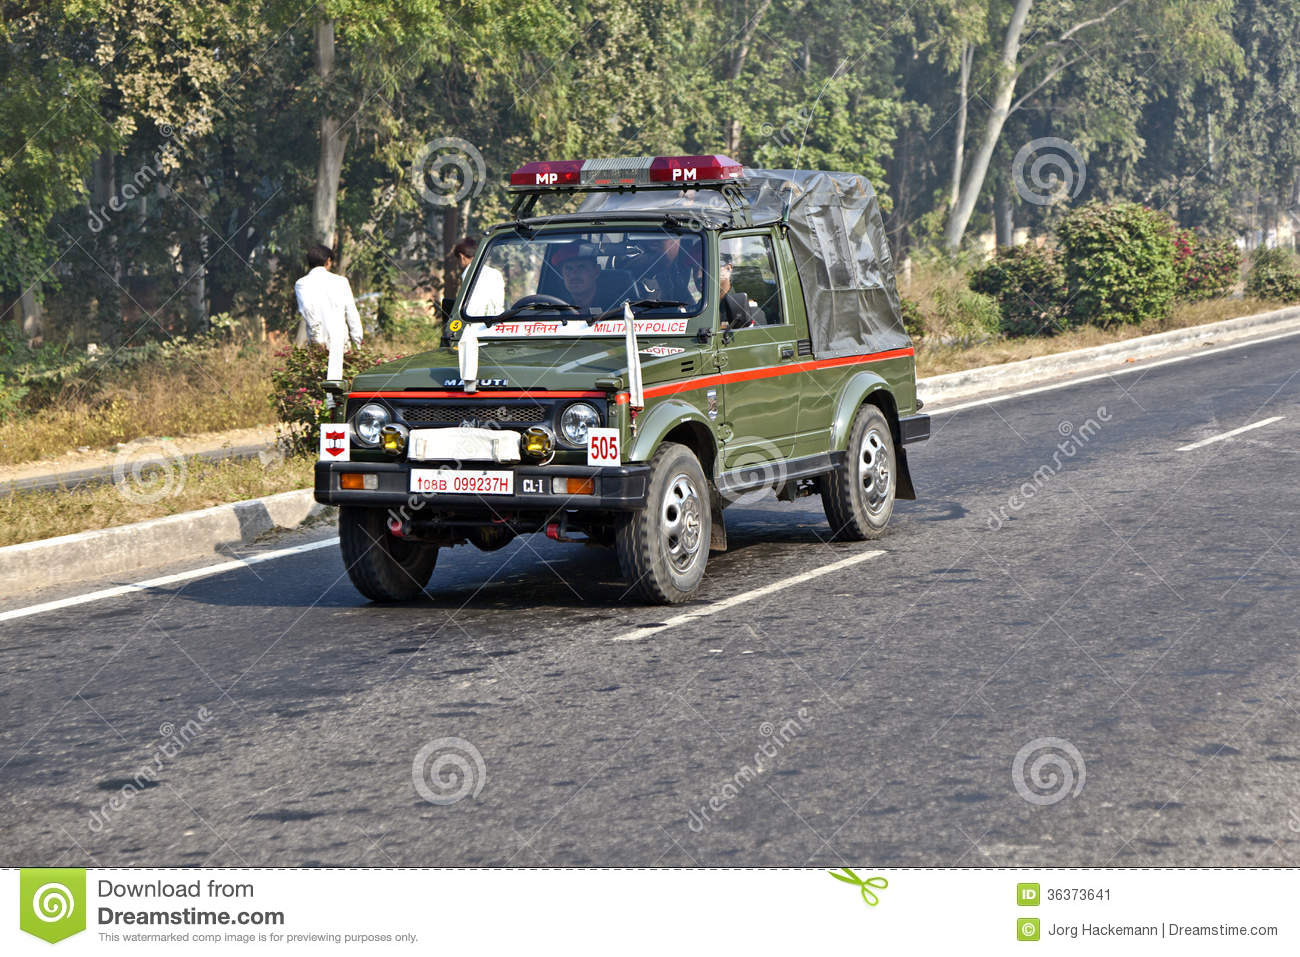Car: (310, 173, 950, 617)
